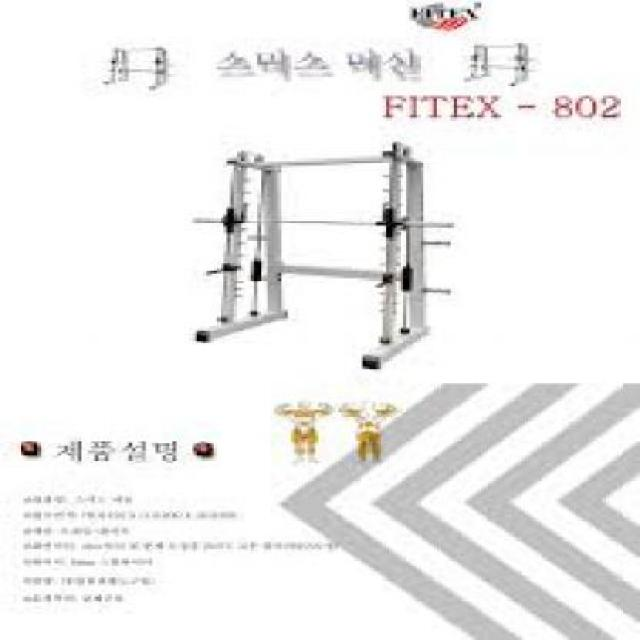smith machine: (192, 140, 456, 371)
